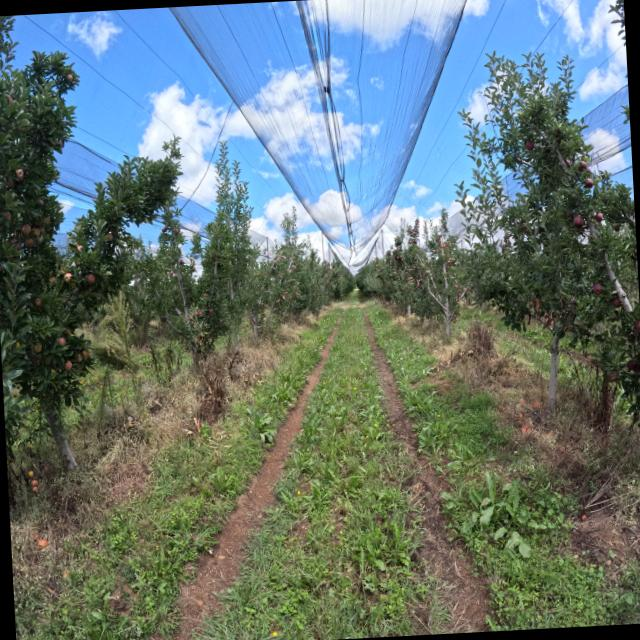-FireBlight-: (543, 310, 560, 330), (535, 299, 540, 311)
